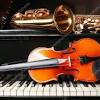Piano: (1, 69, 100, 100)
Saxophone: (9, 7, 100, 45)
Violin: (1, 40, 100, 88)
